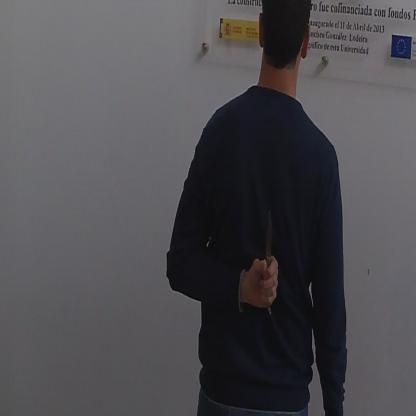knife: (258, 200, 282, 321)
